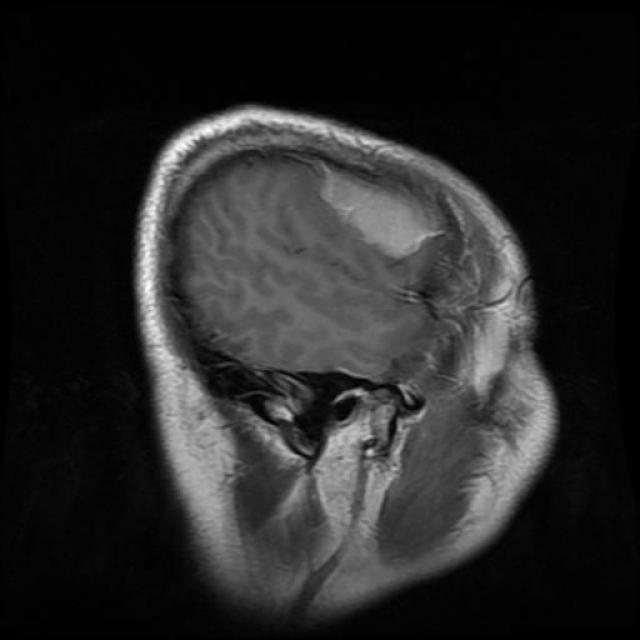meningioma: (314, 162, 450, 260)
